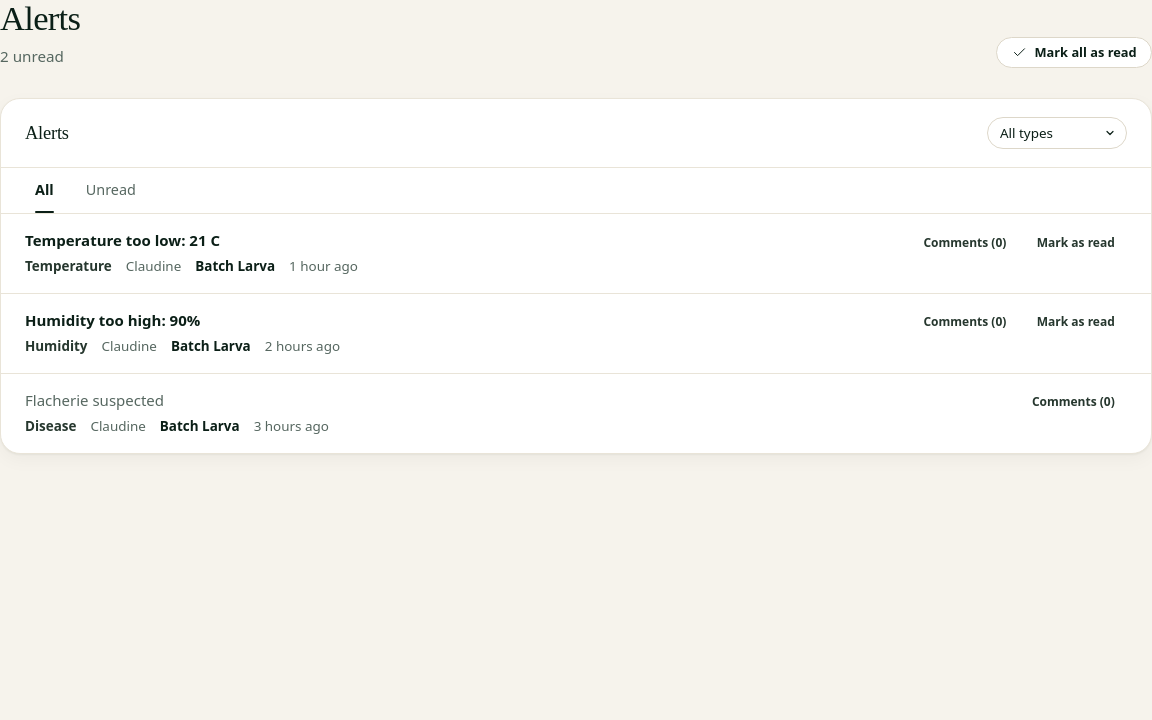
Test: Alerts page › leaves the alerts unread when the question is cancelled
Check: the text "2 unread" is shown, box [0, 46, 64, 66]
Click the button "Mark all as read". click: [1074, 53]
box: [996, 37, 1151, 68]
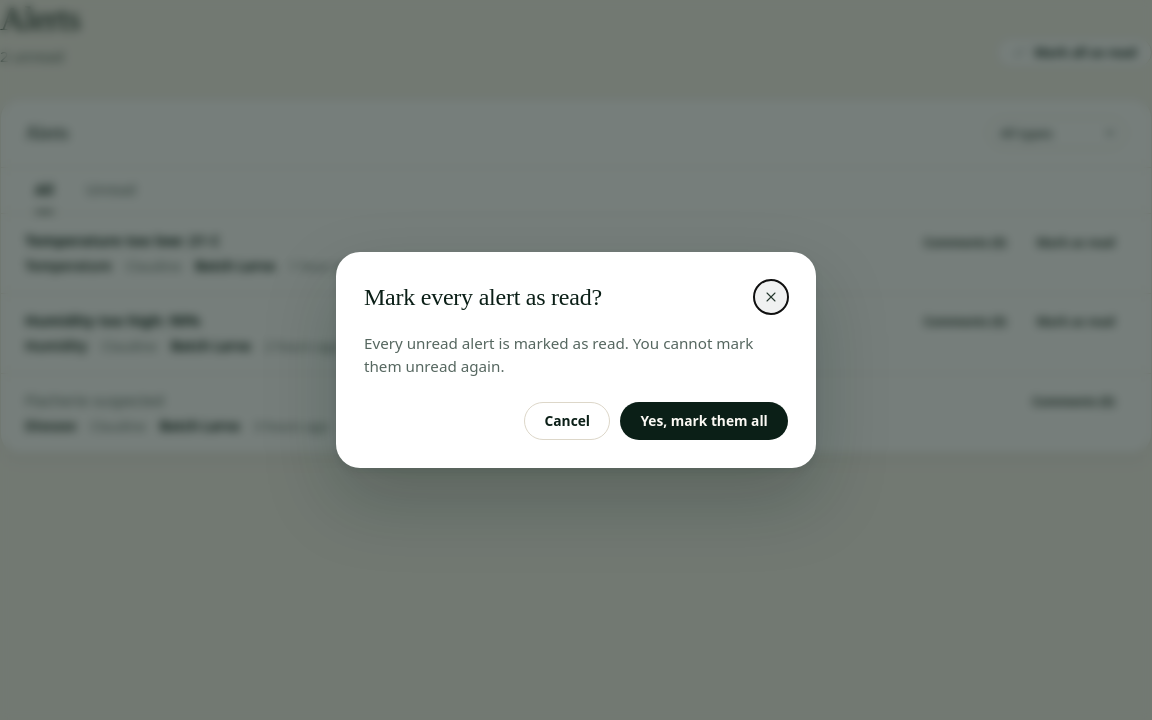
Click the button "Cancel". click: [567, 421]
box: [524, 402, 610, 440]
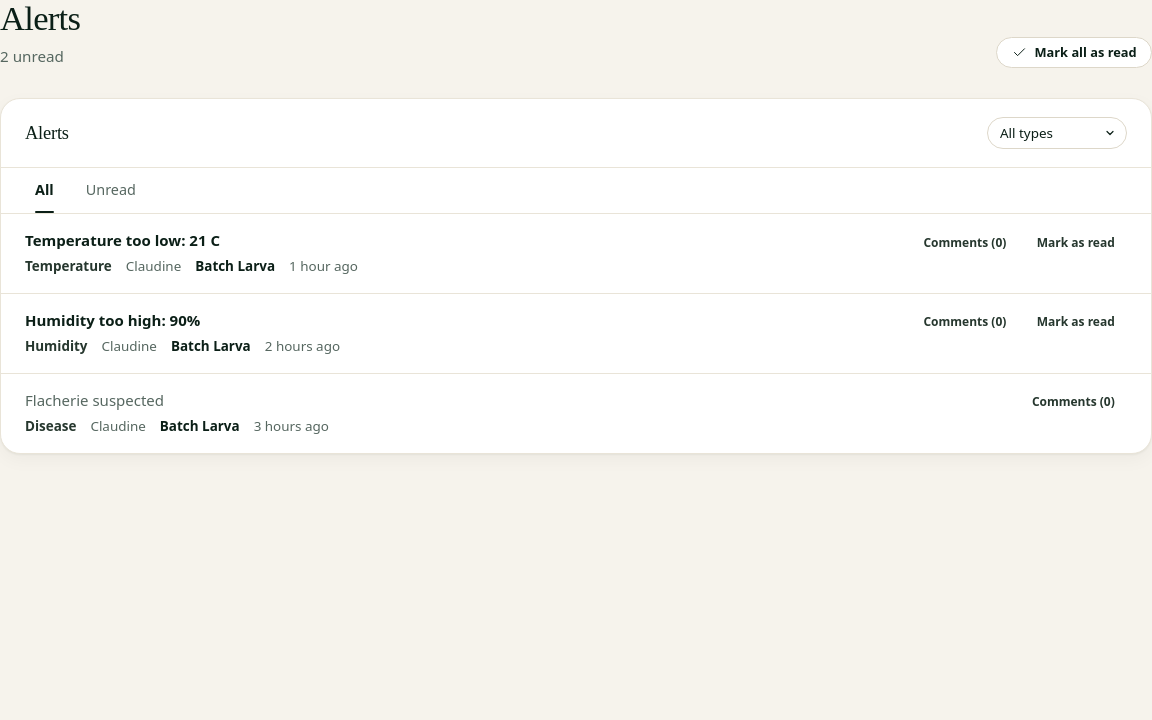
Check: the text "2 unread" is shown, box [0, 46, 64, 66]
Check: the dialog is gone
